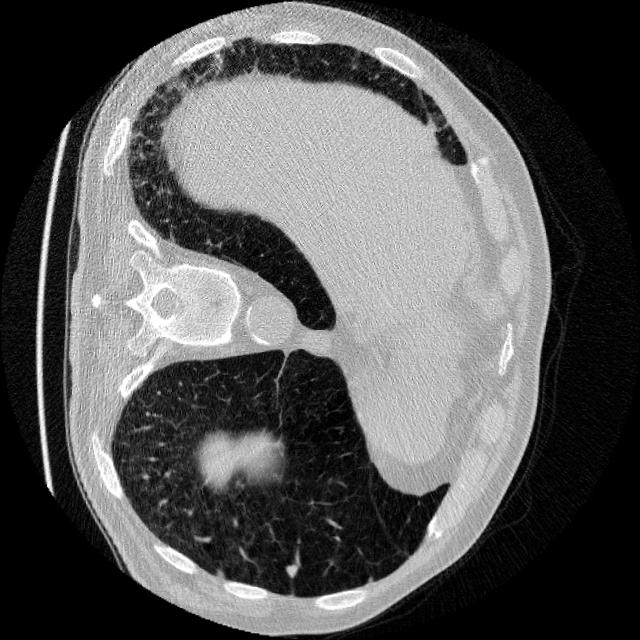nodule: (278, 554, 306, 584)
